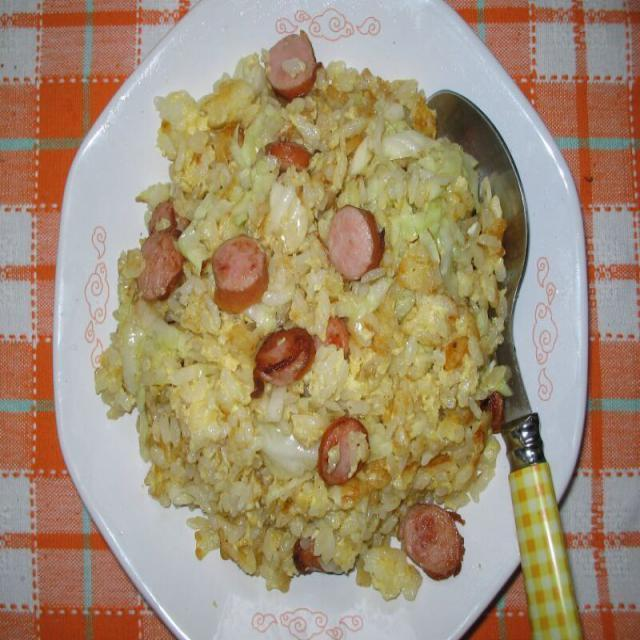fried-rice: (54, 0, 598, 639)
